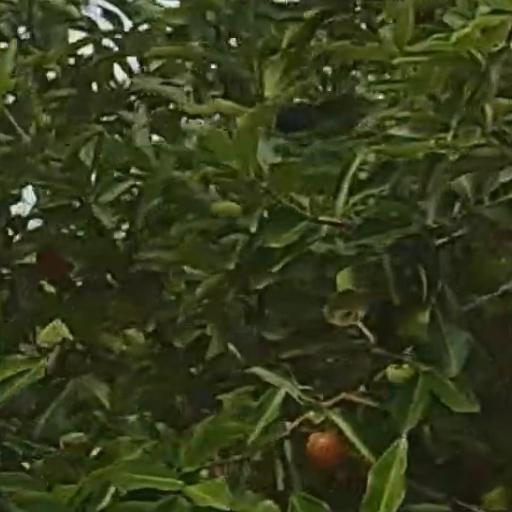acerola: (310, 433, 344, 467)
